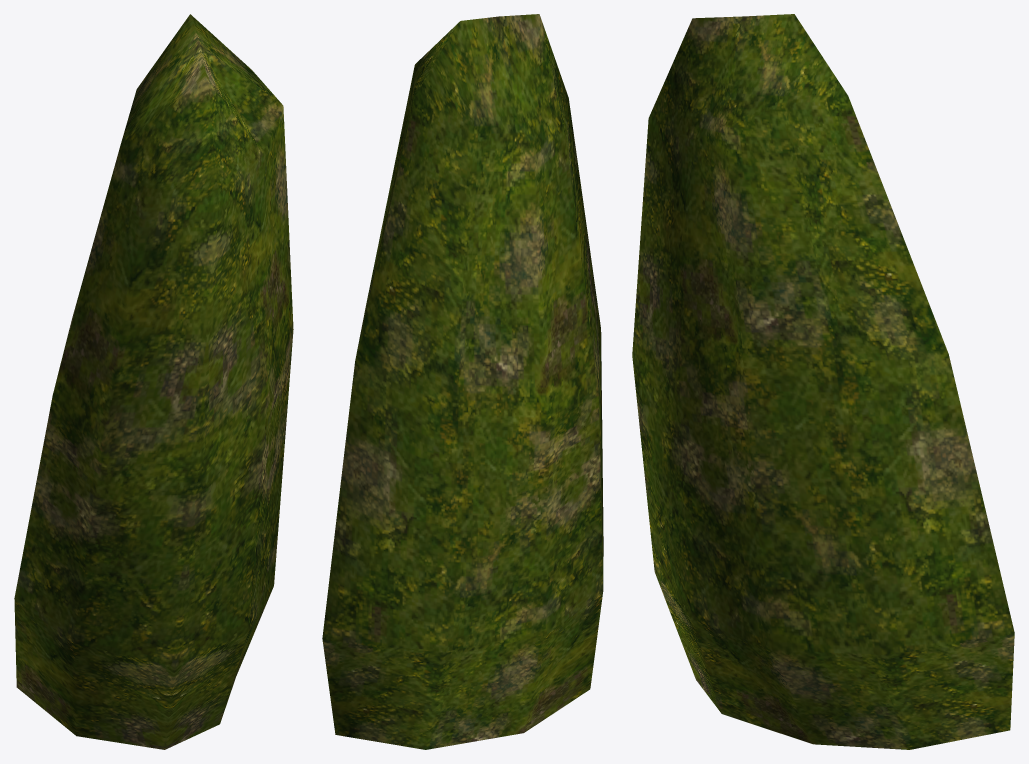
The model's file is OVERHILL_A_01_BR_ROCK199.fbx.
3 renders of one model, left to right at view 1: azimuth 30°, elevation 25°; view 2: azimuth 150°, elevation 25°; view 3: azimuth 270°, elevation 25°, orthographic. The views are drawn at different scales.
Parts seen in each view (by area): view 1: OVERHILL_A_01_BR_ROCK199; view 2: OVERHILL_A_01_BR_ROCK199; view 3: OVERHILL_A_01_BR_ROCK199.
Part boxes in pixels (<box>): OVERHILL_A_01_BR_ROCK199: <box>14,14,293,749</box>; OVERHILL_A_01_BR_ROCK199: <box>322,14,603,749</box>; OVERHILL_A_01_BR_ROCK199: <box>632,14,1014,749</box>.
Bounding box in the file's own units: 11668 × 35696 × 17607.
1 material, 1 textured.
